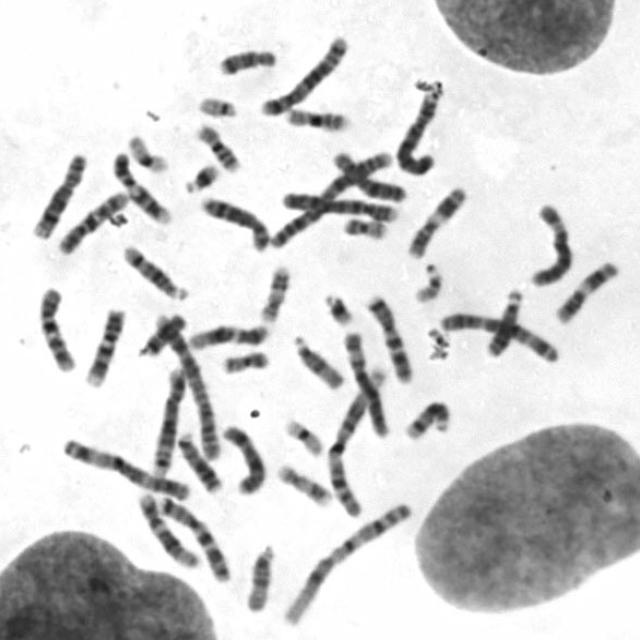A1: (277, 495, 418, 627), (323, 359, 392, 520)
A2: (263, 143, 394, 250), (146, 306, 226, 462)
A3: (57, 432, 194, 502), (433, 306, 562, 365)
B4: (391, 84, 444, 178), (277, 185, 403, 224)
B5: (255, 29, 352, 118), (146, 362, 189, 477)
C10: (53, 184, 132, 256), (32, 280, 78, 374)
C11: (402, 180, 471, 261), (550, 255, 622, 326)
C12: (133, 486, 203, 570), (183, 317, 272, 351)
C6: (340, 324, 393, 439), (523, 197, 576, 288)
C7: (150, 490, 234, 583), (359, 287, 416, 385)
C8: (26, 147, 89, 240), (195, 190, 272, 253)
C9: (108, 145, 175, 226), (78, 303, 126, 389)
D13: (173, 425, 226, 494), (480, 282, 524, 358)
D14: (117, 239, 190, 303), (399, 394, 453, 441)
D15: (287, 328, 346, 391), (240, 538, 278, 614)
E16: (190, 117, 244, 173), (281, 101, 354, 132)
E17: (272, 457, 335, 508), (254, 260, 292, 324)
E18: (132, 312, 189, 358), (214, 42, 281, 77)
F19: (122, 128, 172, 174), (278, 412, 326, 458)
F20: (217, 344, 272, 374), (337, 211, 390, 241)
G21: (179, 156, 223, 194), (318, 286, 357, 327)
G22: (408, 258, 446, 304), (192, 90, 240, 119)
X: (328, 146, 411, 204), (217, 418, 269, 496)
